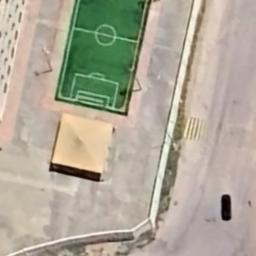sedan: (220, 194, 232, 220)
